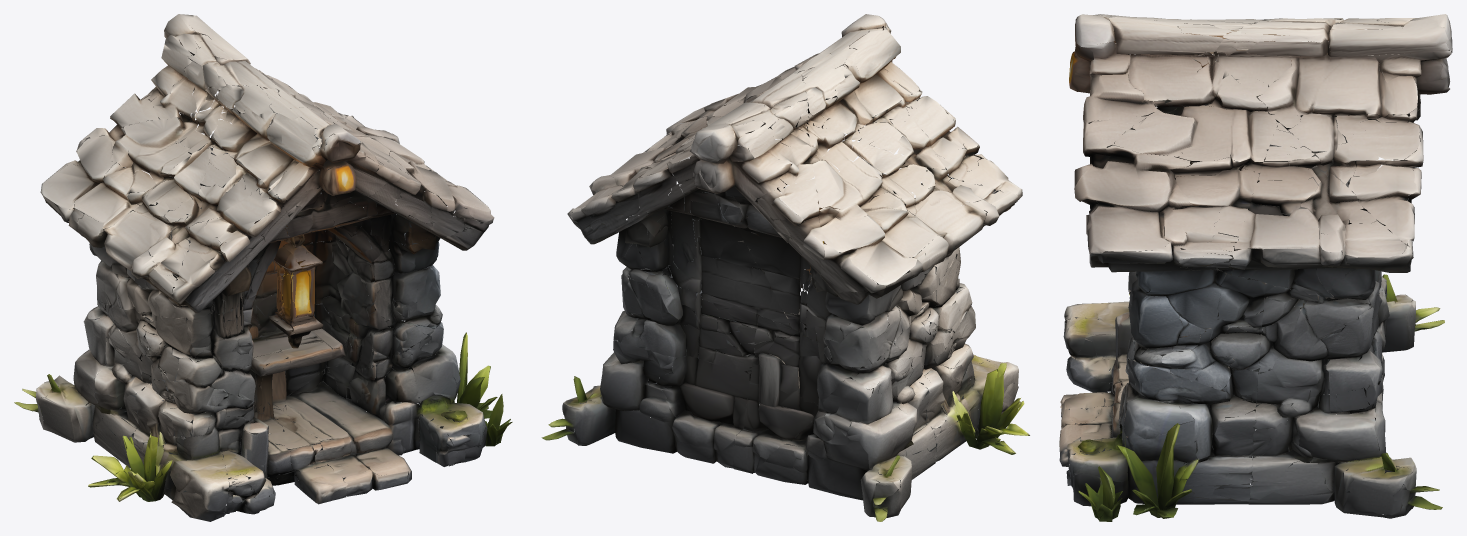
The model's file is landmark_shrine.glb.
3 renders of one model, left to right at view 1: azimuth 30°, elevation 25°; view 2: azimuth 150°, elevation 25°; view 3: azimuth 270°, elevation 25°, orthographic. The views are drawn at different scales.
Parts seen in each view (by area): view 1: tripo_node_5358b06c-a4af-42d6-8247-03d2e28e613f; view 2: tripo_node_5358b06c-a4af-42d6-8247-03d2e28e613f; view 3: tripo_node_5358b06c-a4af-42d6-8247-03d2e28e613f.
Boxes of the visible parts, x1,y1,x2,y2 form: tripo_node_5358b06c-a4af-42d6-8247-03d2e28e613f: (14,14,512,521); tripo_node_5358b06c-a4af-42d6-8247-03d2e28e613f: (541,14,1029,521); tripo_node_5358b06c-a4af-42d6-8247-03d2e28e613f: (1059,14,1452,521).
Bounding box in the file's own units: 0.9881 × 0.8665 × 0.7435.
1 material, 1 textured.
